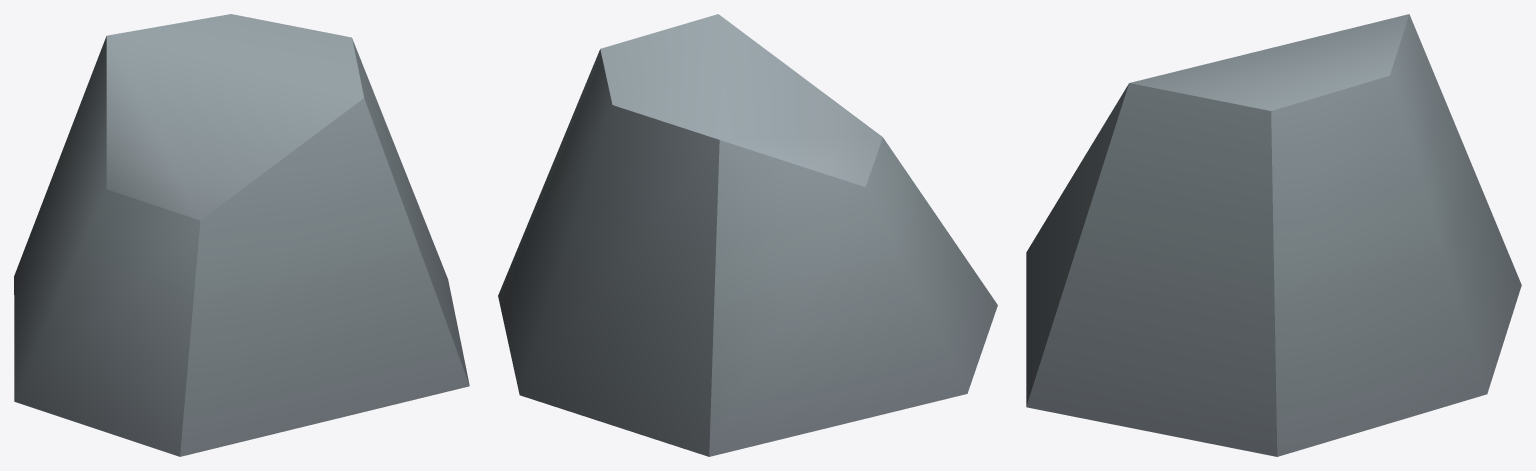
The model's file is d_kaykit_caillou_d.glb.
The picture shows the model from 3 angles, left to right: view 1: azimuth 30°, elevation 25°; view 2: azimuth 150°, elevation 25°; view 3: azimuth 270°, elevation 25°; orthographic projection. The views are drawn at different scales.
Visible parts, largest first — view 1: d_kaykit_caillou_d; view 2: d_kaykit_caillou_d; view 3: d_kaykit_caillou_d.
Part boxes in pixels (left/top/right/bottom): d_kaykit_caillou_d: left=14, top=14, right=469, bottom=456; d_kaykit_caillou_d: left=498, top=14, right=997, bottom=456; d_kaykit_caillou_d: left=1026, top=14, right=1521, bottom=456.
Bounding box in the file's own units: 0.2866 × 0.1629 × 0.2497.
Materials: 1 (1 with a texture image).
